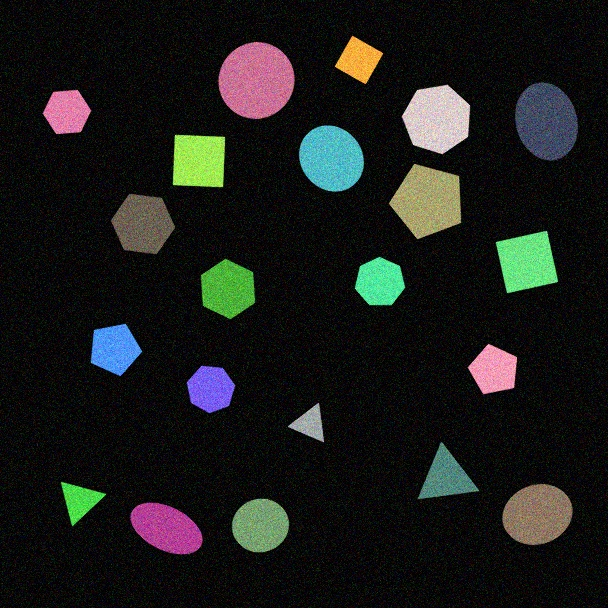Circulo: (218, 41, 295, 120), (298, 125, 365, 192), (231, 498, 290, 553)
Elipse: (514, 82, 579, 161), (502, 483, 573, 546), (130, 502, 203, 555)
Heptagono: (401, 84, 471, 155), (354, 256, 406, 306), (186, 365, 236, 414)
Hexagono: (110, 193, 176, 255), (200, 258, 256, 320), (42, 89, 92, 135)
Pentagono: (388, 163, 462, 240), (90, 323, 143, 377), (467, 343, 518, 395)
Quadrado: (495, 230, 559, 294), (172, 134, 226, 188), (334, 35, 384, 85)
Triangulo: (417, 442, 480, 500), (60, 481, 107, 527), (288, 402, 325, 443)
